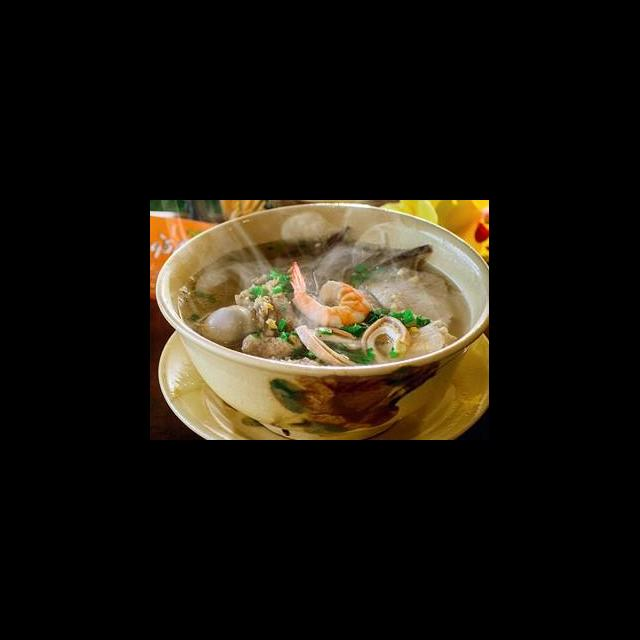thit heo: (358, 265, 461, 330), (390, 317, 464, 368)
tom: (284, 258, 374, 330)
